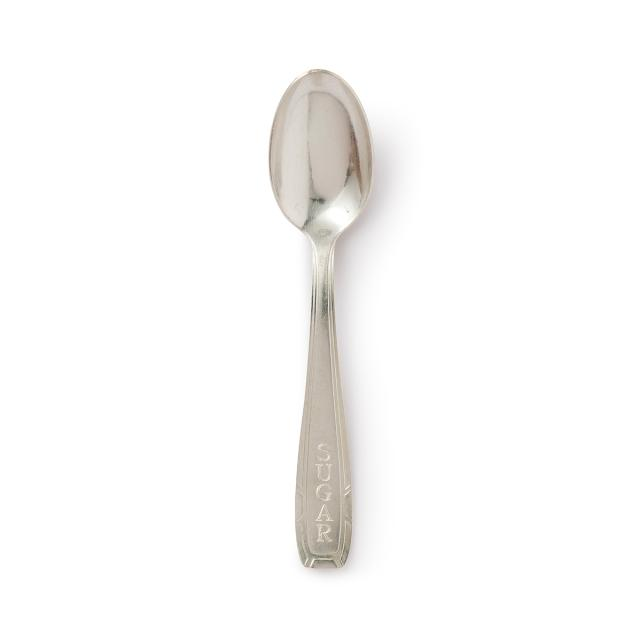spoon: (223, 52, 406, 573)
